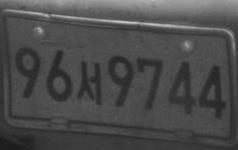4: (197, 65, 227, 120), (167, 61, 196, 116)
6: (45, 50, 73, 103)
7: (135, 57, 164, 109)
9: (106, 54, 135, 107), (14, 46, 41, 99)
서: (76, 61, 102, 105)
